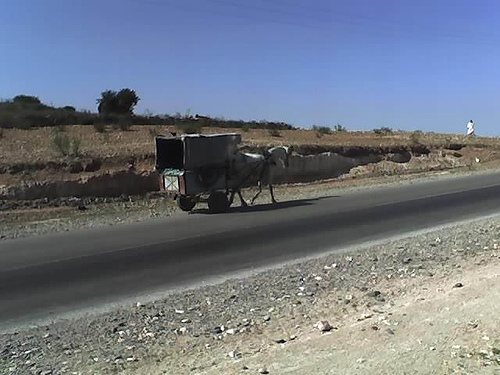horse: (227, 142, 296, 211)
